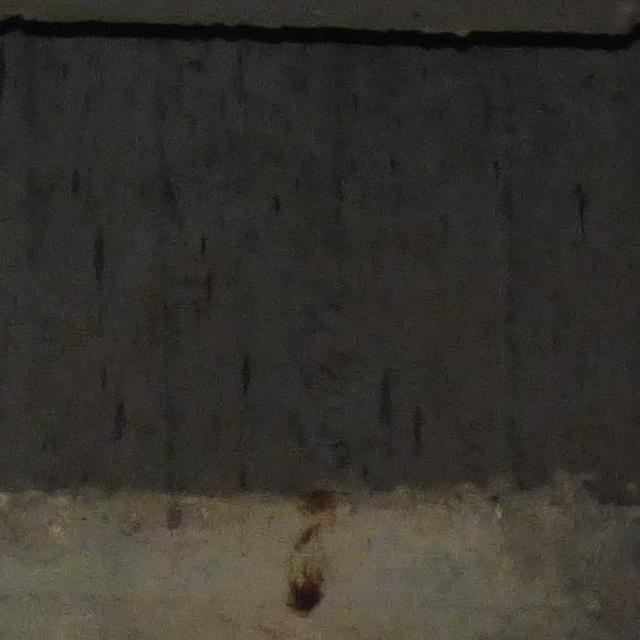Rust: (282, 579, 324, 617), (299, 489, 338, 516)
